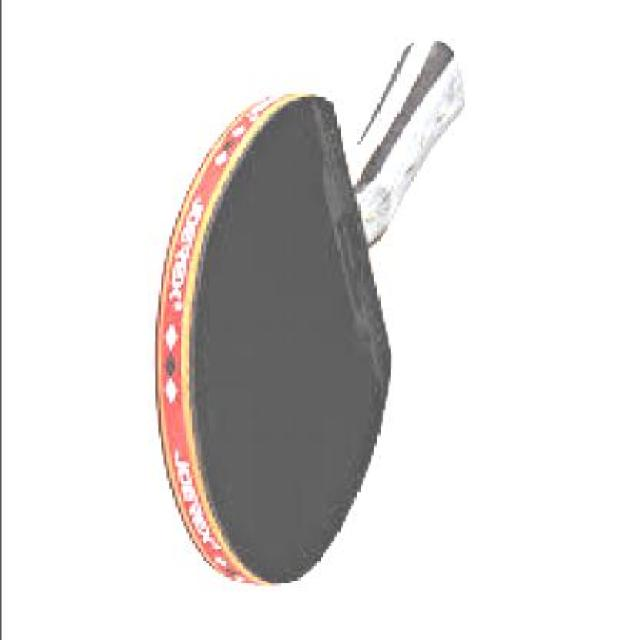table_tennis_racket: (153, 80, 393, 597)
